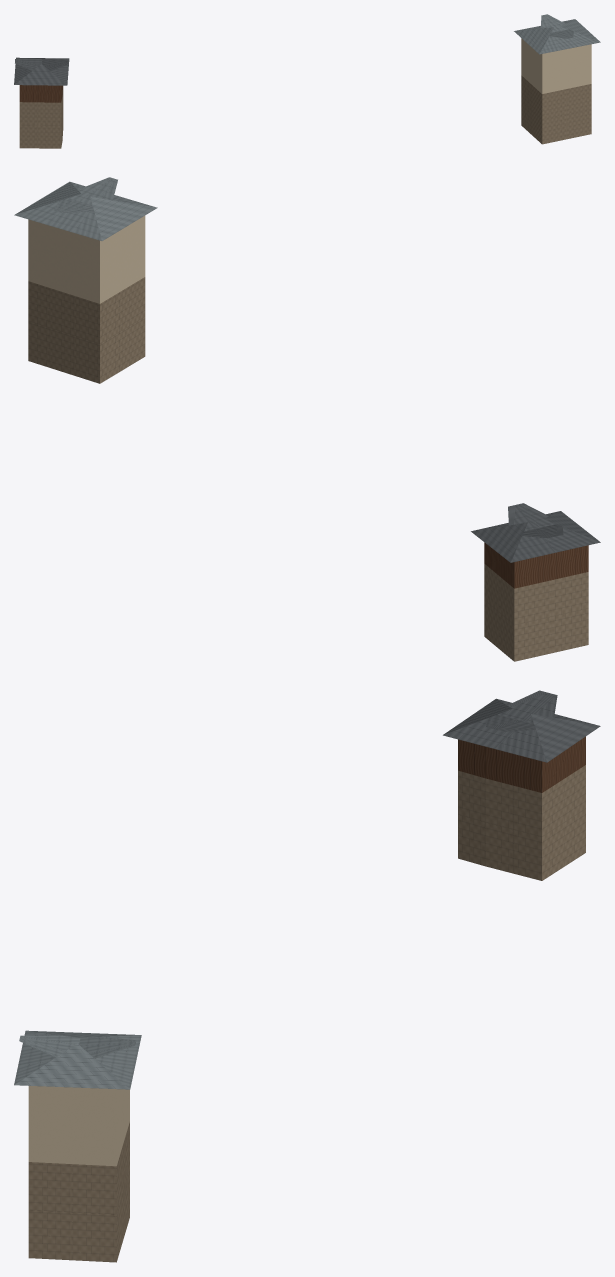
The model's file is bld_c12_30_388.gltf.
The picture shows the model from 3 angles, top to bottom: view 1: azimuth 30°, elevation 25°; view 2: azimuth 150°, elevation 25°; view 3: azimuth 270°, elevation 25°; orthographic projection. The views are drawn at different scales.
Parts seen in each view (by area): view 1: bld_c12_30_388; view 2: bld_c12_30_388; view 3: bld_c12_30_388.
Boxes of the visible parts, x1,y1,x2,y2 form: bld_c12_30_388: (14, 14, 600, 148); bld_c12_30_388: (14, 177, 600, 661); bld_c12_30_388: (14, 690, 600, 1262).
Size of the model in its own units: 47.6 by 10.1 by 27.21.
Materials: 5 (5 with a texture image).
